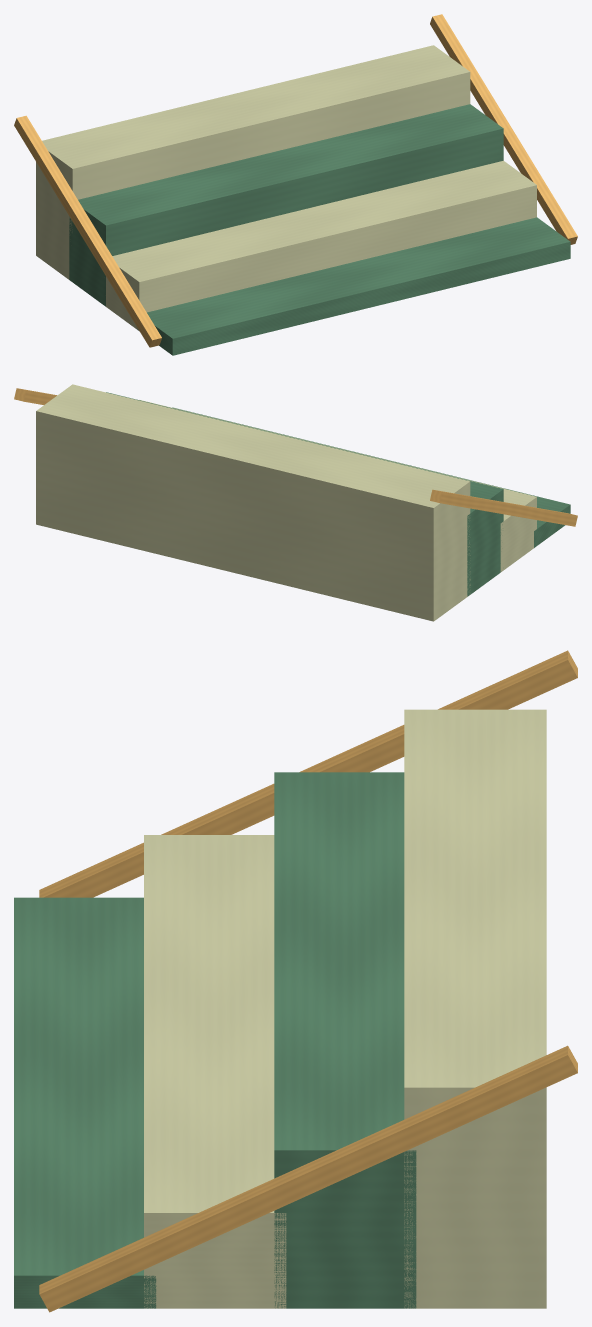
Rendered from atlas100-s001-a10.glb.
3 views of the same model, one above another, from view 1: azimuth 30°, elevation 25°; view 2: azimuth 150°, elevation 25°; view 3: azimuth 270°, elevation 25° (orthographic). The views are drawn at different scales.
Visible parts, largest first — view 1: atlas100-s001-a10:part-003, atlas100-s001-a10:part-002, atlas100-s001-a10:part-001, atlas100-s001-a10:part-000, atlas100-s001-a10:part-004, atlas100-s001-a10:part-005; view 2: atlas100-s001-a10:part-003, atlas100-s001-a10:part-002, atlas100-s001-a10:part-001, atlas100-s001-a10:part-004, atlas100-s001-a10:part-000, atlas100-s001-a10:part-005; view 3: atlas100-s001-a10:part-003, atlas100-s001-a10:part-002, atlas100-s001-a10:part-001, atlas100-s001-a10:part-000, atlas100-s001-a10:part-005, atlas100-s001-a10:part-004.
Boxes of the visible parts, x1,y1,x2,y2 form: atlas100-s001-a10:part-003: (36, 45, 470, 279); atlas100-s001-a10:part-002: (69, 104, 503, 306); atlas100-s001-a10:part-001: (106, 160, 536, 330); atlas100-s001-a10:part-000: (137, 217, 570, 355); atlas100-s001-a10:part-004: (14, 115, 161, 347); atlas100-s001-a10:part-005: (430, 14, 577, 244); atlas100-s001-a10:part-003: (36, 384, 470, 621); atlas100-s001-a10:part-002: (106, 392, 503, 596); atlas100-s001-a10:part-001: (139, 400, 536, 572); atlas100-s001-a10:part-004: (430, 489, 577, 526); atlas100-s001-a10:part-000: (172, 407, 570, 547); atlas100-s001-a10:part-005: (14, 388, 56, 404); atlas100-s001-a10:part-003: (404, 709, 546, 1308); atlas100-s001-a10:part-002: (274, 772, 416, 1308); atlas100-s001-a10:part-001: (144, 835, 286, 1308); atlas100-s001-a10:part-000: (14, 897, 156, 1308); atlas100-s001-a10:part-005: (39, 1045, 577, 1312); atlas100-s001-a10:part-004: (39, 650, 577, 897).
Bounding box in the file's own units: 2.36 × 0.7246 × 1.39.
3 materials, 3 textured.
